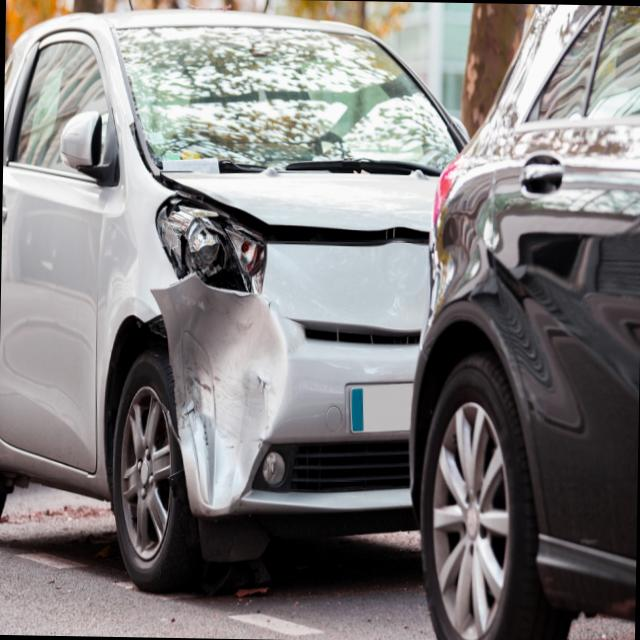Cabossage: (163, 283, 301, 511)
Phare abime: (150, 189, 272, 304)
